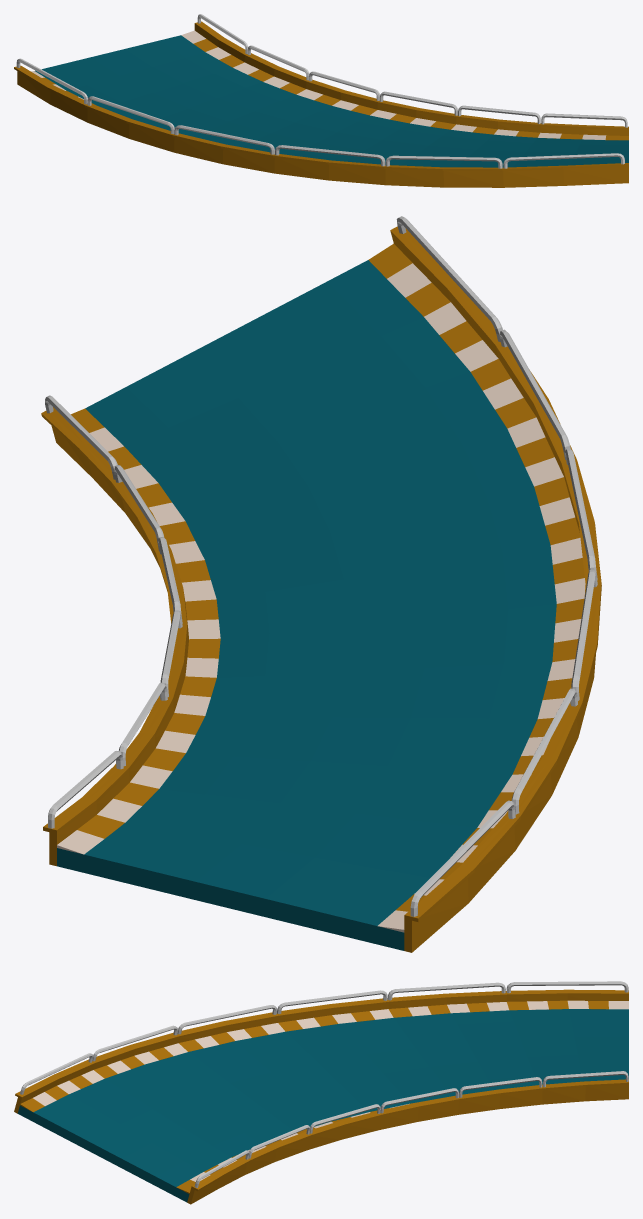
File: curveLeft-60-Banked-15.FBX
The picture shows the model from 3 angles, top to bottom: view 1: azimuth 30°, elevation 25°; view 2: azimuth 150°, elevation 25°; view 3: azimuth 270°, elevation 25°; orthographic projection. The views are drawn at different scales.
Parts seen in each view (by area): view 1: curveLeft-60-banked-15, wall_r, wall_l, curbs_l; view 2: curveLeft-60-banked-15, wall_r, curbs_r, curbs_l, wall_l; view 3: curveLeft-60-banked-15, wall_l, wall_r, curbs_r, curbs_l.
Part boxes in pixels (x1=…): curveLeft-60-banked-15: x1=35, y1=35, x2=628, y2=167; wall_r: x1=14, y1=58, x2=628, y2=187; wall_l: x1=194, y1=14, x2=628, y2=135; curbs_l: x1=181, y1=30, x2=628, y2=140; curveLeft-60-banked-15: x1=57, y1=260, x2=556, y2=950; wall_r: x1=390, y1=216, x2=601, y2=952; curbs_r: x1=368, y1=243, x2=585, y2=932; curbs_l: x1=57, y1=408, x2=220, y2=854; wall_l: x1=41, y1=395, x2=188, y2=866; curveLeft-60-banked-15: x1=17, y1=1009, x2=628, y2=1202; wall_l: x1=187, y1=1071, x2=628, y2=1204; wall_r: x1=14, y1=981, x2=628, y2=1113; curbs_r: x1=20, y1=1000, x2=628, y2=1112; curbs_l: x1=176, y1=1103, x2=413, y2=1193.
Size of what is drawn, in the model's own units: 443 by 82.86 by 582.
